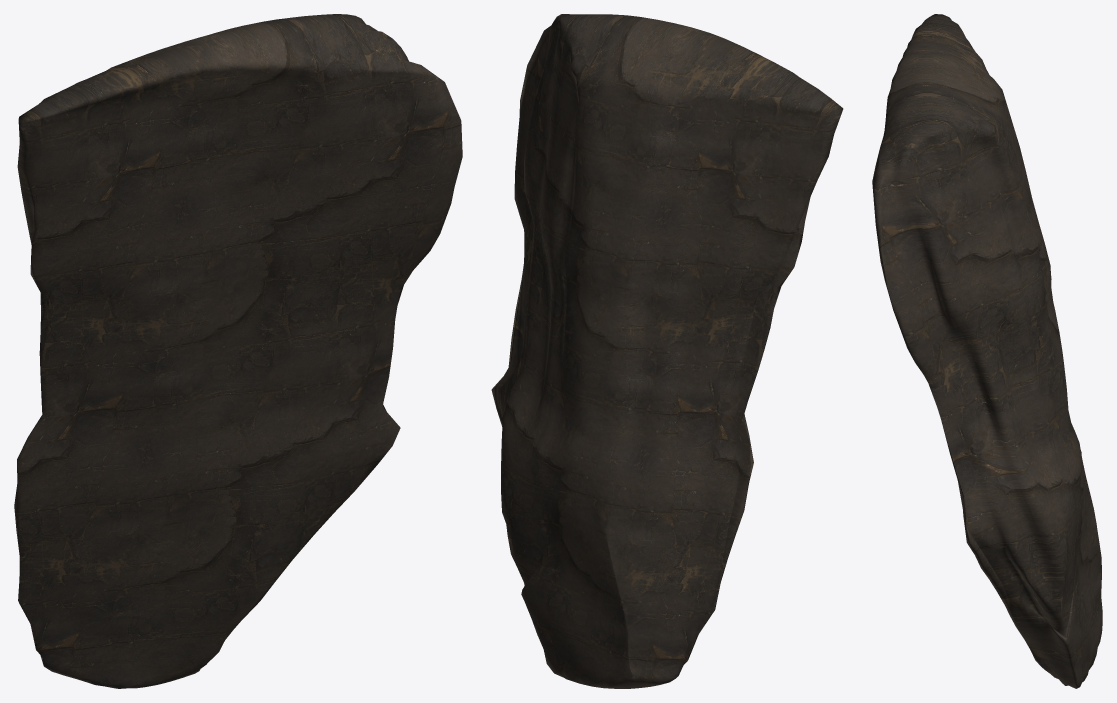
File: cliff_slab_a_lod0.gltf
3 views of the same model, side by side, from view 1: azimuth 30°, elevation 25°; view 2: azimuth 150°, elevation 25°; view 3: azimuth 270°, elevation 25° (orthographic). The views are drawn at different scales.
Visible parts, largest first — view 1: cliff_slab_a_LOD0; view 2: cliff_slab_a_LOD0; view 3: cliff_slab_a_LOD0.
Boxes of the visible parts, x1,y1,x2,y2 form: cliff_slab_a_LOD0: [14, 14, 462, 688]; cliff_slab_a_LOD0: [491, 14, 843, 688]; cliff_slab_a_LOD0: [872, 14, 1102, 688].
Size of the model in its own units: 13.29 by 22 by 7.58.
1 material, 1 textured.
